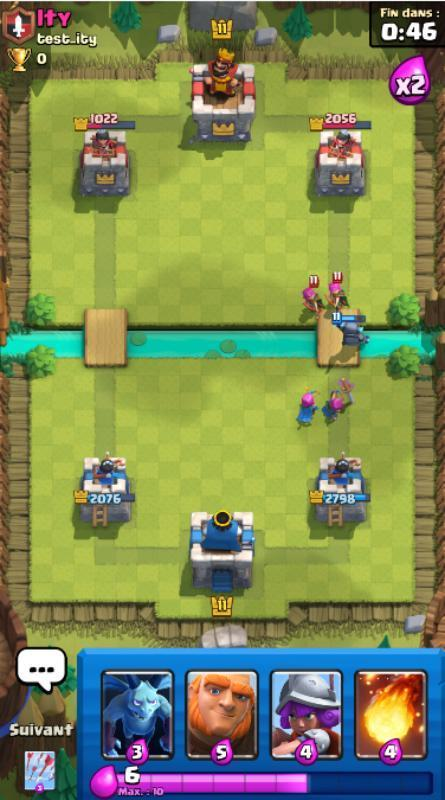enemy_archers: (298, 275, 322, 313), (324, 273, 349, 309)
player_archers: (321, 383, 354, 421), (291, 387, 321, 427)
player_mini_pekka: (328, 307, 374, 353)
